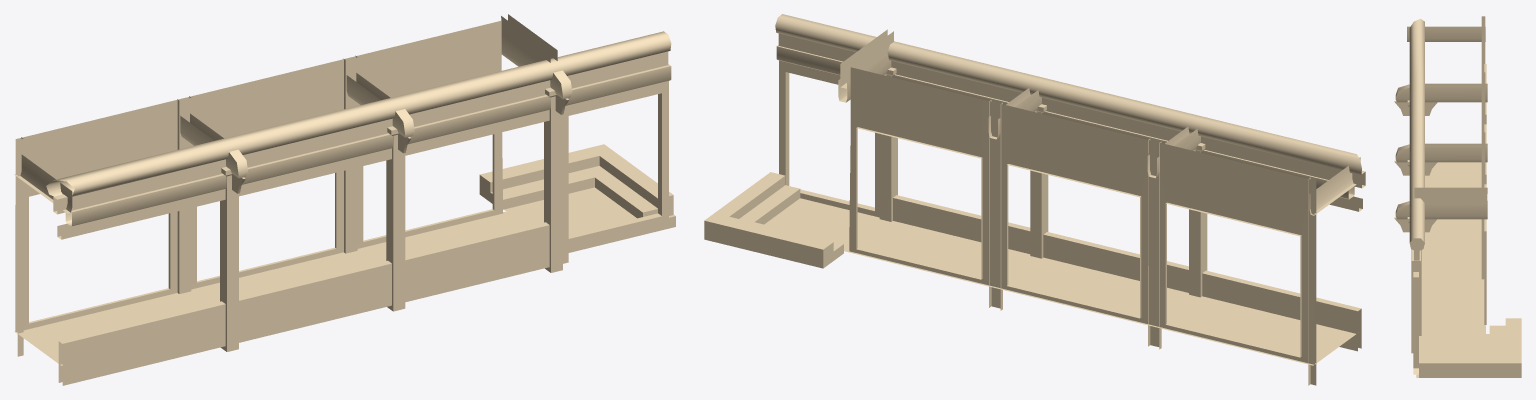
Rendered from Daejojeon_3.07.22_corridor2.fbx.
3 renders of one model, left to right at view 1: azimuth 30°, elevation 25°; view 2: azimuth 150°, elevation 25°; view 3: azimuth 270°, elevation 25°, orthographic. The views are drawn at different scales.
Parts seen in each view (by area): view 1: Corridor2; view 2: Corridor2; view 3: Corridor2.
Part boxes in pixels (bbox=[...]): Corridor2: bbox=[14, 14, 675, 385]; Corridor2: bbox=[704, 14, 1365, 385]; Corridor2: bbox=[1394, 16, 1521, 377].
Bounding box in the file's own units: 1086 × 364 × 260.
